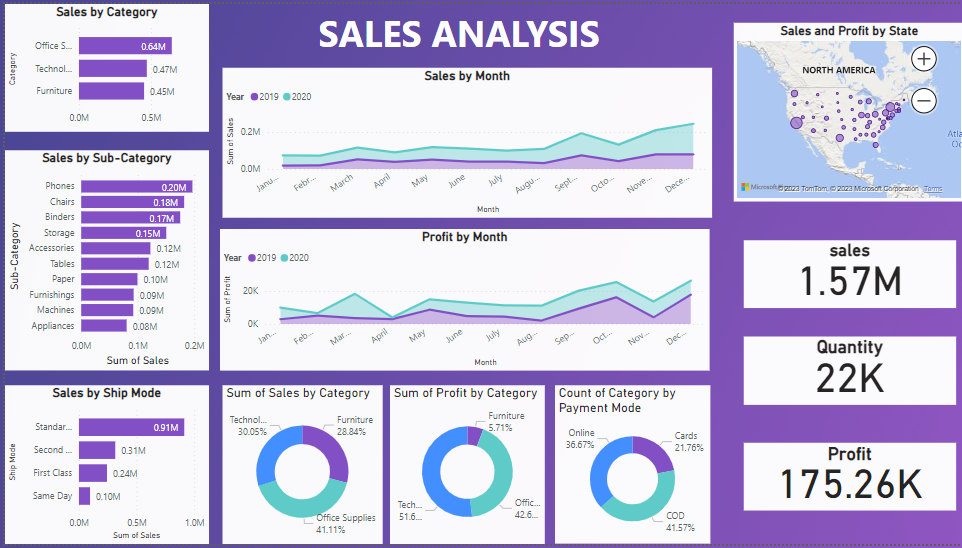

This screenshot's page, from the dashboard's own definition file:
{"tool":"powerbi","page":{"name":"Page 1","canvas":[1280,720],"ordinal":0},"visuals":[{"type":"stackedAreaChart","title":"Sales by Month ","fields":{"Y":["Sum(Sheet1.Sales)"],"Category":["Sheet1.Order Date.Variation.Date Hierarchy.Month","Sheet1.Order Date.Variation.Date Hierarchy.Day"],"Series":["Sheet1.Order Date.Variation.Date Hierarchy.Year"]},"box":[290,84.3,652.9,200],"z":0},{"type":"barChart","title":" Sales by Category","fields":{"Y":["Sum(Sheet1.Sales)"],"Category":["Sheet1.Category"]},"box":[0,0,271.7,170],"z":1000},{"type":"barChart","title":"Sales by Sub-Category","fields":{"Y":["Sum(Sheet1.Sales)"],"Category":["Sheet1.Sub-Category"]},"box":[0,195,271.7,293.3],"z":2000},{"type":"barChart","title":"Sales by Ship Mode","fields":{"Y":["Sum(Sheet1.Sales)"],"Category":["Sheet1.Ship Mode"]},"box":[0,508.3,271.7,211.7],"z":3000},{"type":"stackedAreaChart","title":"Profit by Month ","fields":{"Category":["Sheet1.Order Date.Variation.Date Hierarchy.Month","Sheet1.Order Date.Variation.Date Hierarchy.Day"],"Series":["Sheet1.Order Date.Variation.Date Hierarchy.Year"],"Y":["Sum(Sheet1.Profit)"]},"box":[287.1,300,652.9,188.6],"z":4000},{"type":"textbox","box":[320,0,588.6,88.6],"z":5000},{"type":"map","title":" Sales and Profit by State","fields":{"Size":["Sum(Sheet1.Sales)"],"Category":["Sheet1.State"]},"box":[971.7,25,308.3,238.3],"z":6000},{"type":"donutChart","fields":{"Y":["Sum(Sheet1.Sales)"],"Series":["Sheet1.Category"]},"box":[290,508.3,213.3,211.7],"z":7000},{"type":"donutChart","fields":{"Series":["Sheet1.Category"],"Y":["Sum(Sheet1.Profit)"]},"box":[513.3,508.3,206.7,211.7],"z":8000},{"type":"donutChart","fields":{"Y":["CountNonNull(Sheet1.Category)"],"Series":["Sheet1.Payment Mode"]},"box":[732.9,508.6,207.1,211.4],"z":9000},{"type":"card","title":"sales","fields":{"Values":["Sum(Sheet1.Sales)"]},"box":[984.3,314.3,282.9,90],"z":10000},{"type":"card","title":"Profit","fields":{"Values":["Sum(Sheet1.Profit)"]},"box":[984.3,584.3,282.9,90],"z":11000},{"type":"card","title":"Quantity","fields":{"Values":["Sum(Sheet1.Quantity)"]},"box":[984.3,442.9,282.9,91.4],"z":12000}]}

Visuals, with their boxes in screenshot pixels (x1, y1, x2, y2), scaled from the page's 1280x720 canvas onto the 962x548 screenshot:
"Sales by Month " stackedAreaChart: x1=218, y1=64, x2=709, y2=216
" Sales by Category" barChart: x1=0, y1=0, x2=204, y2=129
"Sales by Sub-Category" barChart: x1=0, y1=148, x2=204, y2=372
"Sales by Ship Mode" barChart: x1=0, y1=387, x2=204, y2=547
"Profit by Month " stackedAreaChart: x1=216, y1=228, x2=706, y2=372
textbox: x1=240, y1=0, x2=683, y2=67
" Sales and Profit by State" map: x1=730, y1=19, x2=961, y2=200
donutChart - Sum(Sheet1.Sales) x Sheet1.Category: x1=218, y1=387, x2=378, y2=547
donutChart - Sheet1.Category x Sum(Sheet1.Profit): x1=386, y1=387, x2=541, y2=547
donutChart - CountNonNull(Sheet1.Category) x Sheet1.Payment Mode: x1=551, y1=387, x2=706, y2=547
"sales" card: x1=740, y1=239, x2=952, y2=308
"Profit" card: x1=740, y1=445, x2=952, y2=513
"Quantity" card: x1=740, y1=337, x2=952, y2=407
